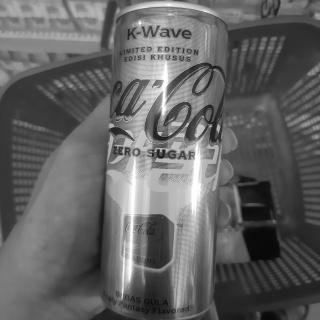alumunium_can: (90, 0, 243, 320)
